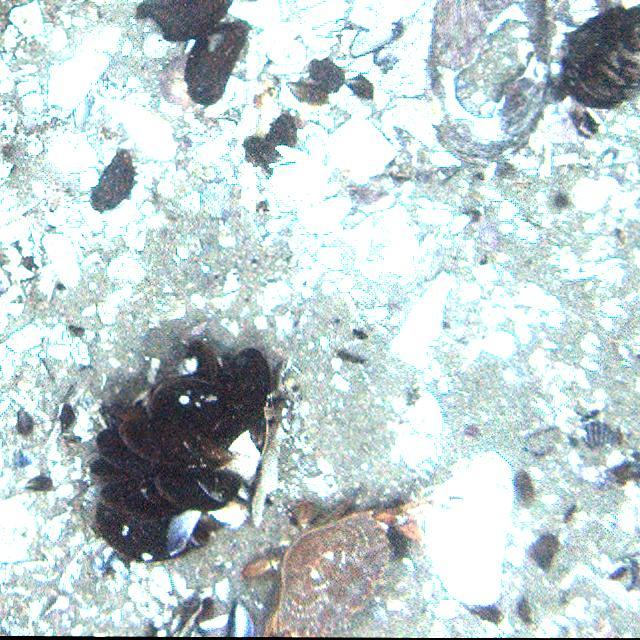crab: (241, 486, 428, 640)
